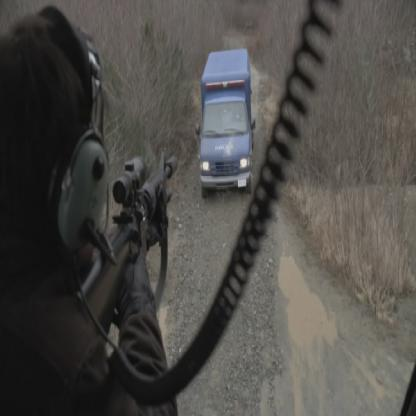Gun: (74, 142, 178, 342)
